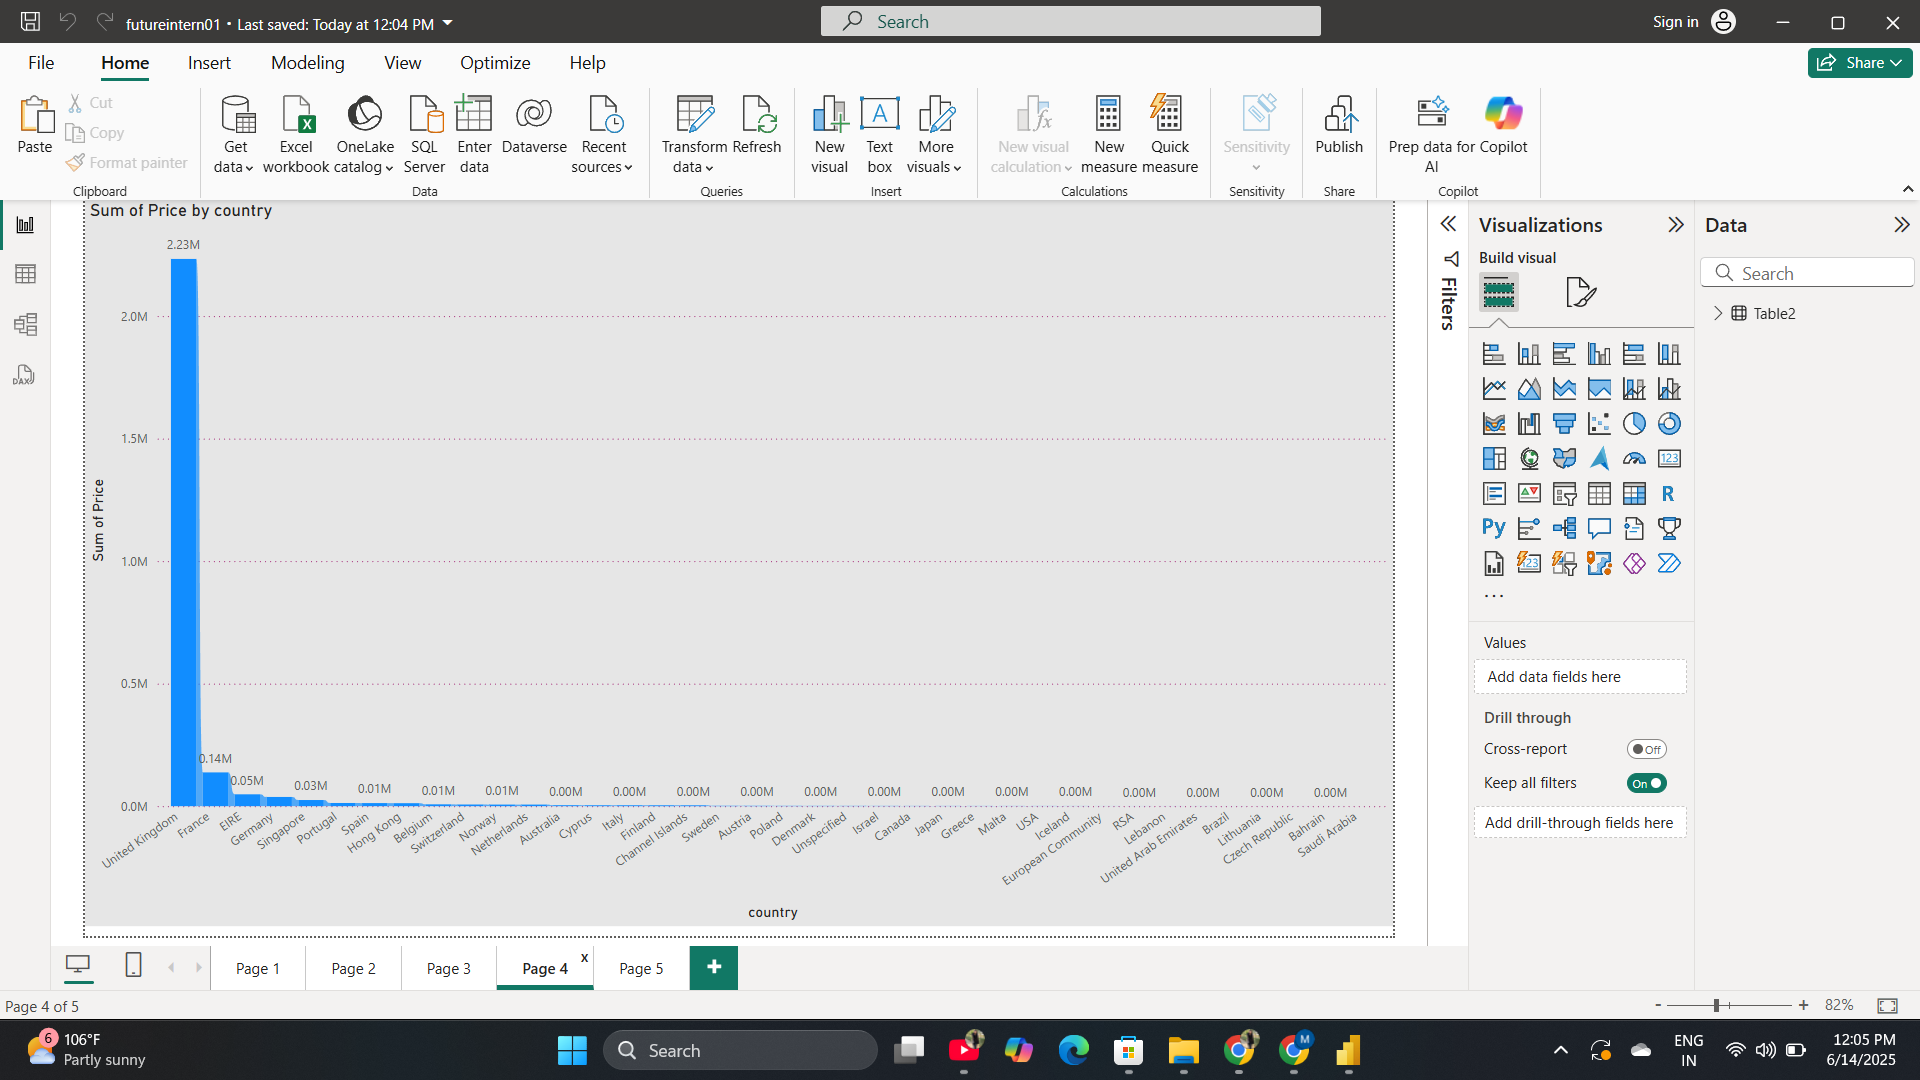

What the dashboard file says about the page in this screenshot:
{"tool":"powerbi","page":{"name":"Page 4","canvas":[1280,720],"ordinal":3},"visuals":[{"type":"columnChart","fields":{"Category":["Table2.united nation"],"Y":["Table2.Price"]},"box":[0,0,1280,710],"z":0}]}

Visuals, with their boxes on the page's 1280x720 design canvas (x1, y1, x2, y2). These are canvas units, not pixel positions in the 1920x1080 screenshot, which may show the page scaled, cropped or inside an application window:
columnChart - Table2.united nation x Table2.Price: BBox(0, 0, 1280, 710)
